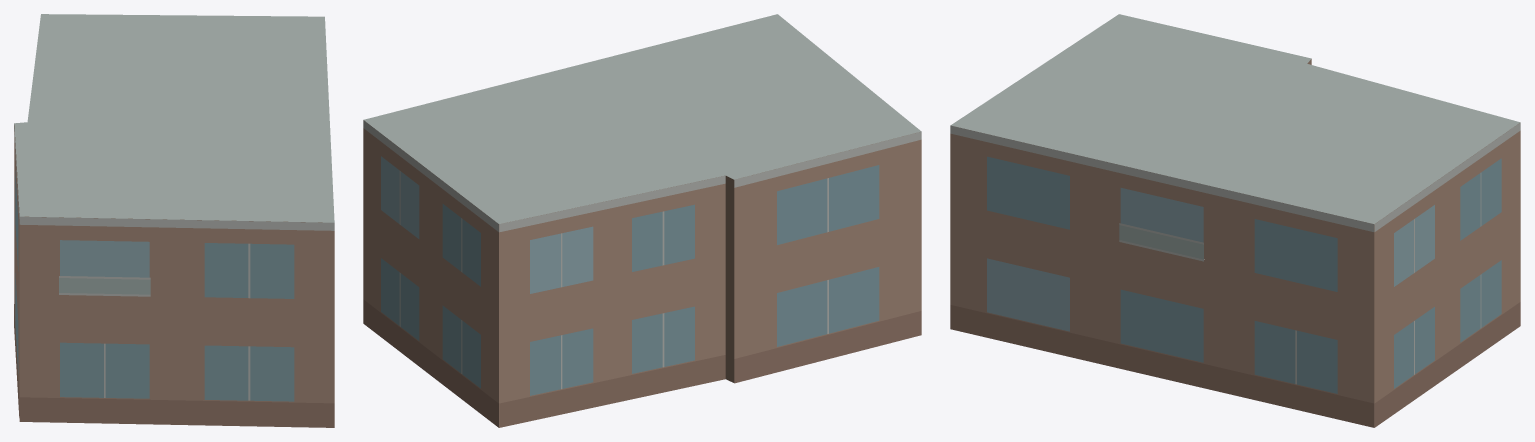
The model's file is survey-upis-32666359.glb.
3 views of the same model, side by side, from view 1: azimuth 30°, elevation 25°; view 2: azimuth 150°, elevation 25°; view 3: azimuth 270°, elevation 25° (orthographic).
Parts seen in each view (by area): view 1: survey-upis-32666359.tmp; view 2: survey-upis-32666359.tmp; view 3: survey-upis-32666359.tmp.
Boxes of the visible parts, x1,y1,x2,y2 form: survey-upis-32666359.tmp: [14, 14, 334, 427]; survey-upis-32666359.tmp: [363, 14, 921, 427]; survey-upis-32666359.tmp: [950, 14, 1520, 427].
Bounding box in the file's own units: 13.51 × 6.1 × 15.49.
